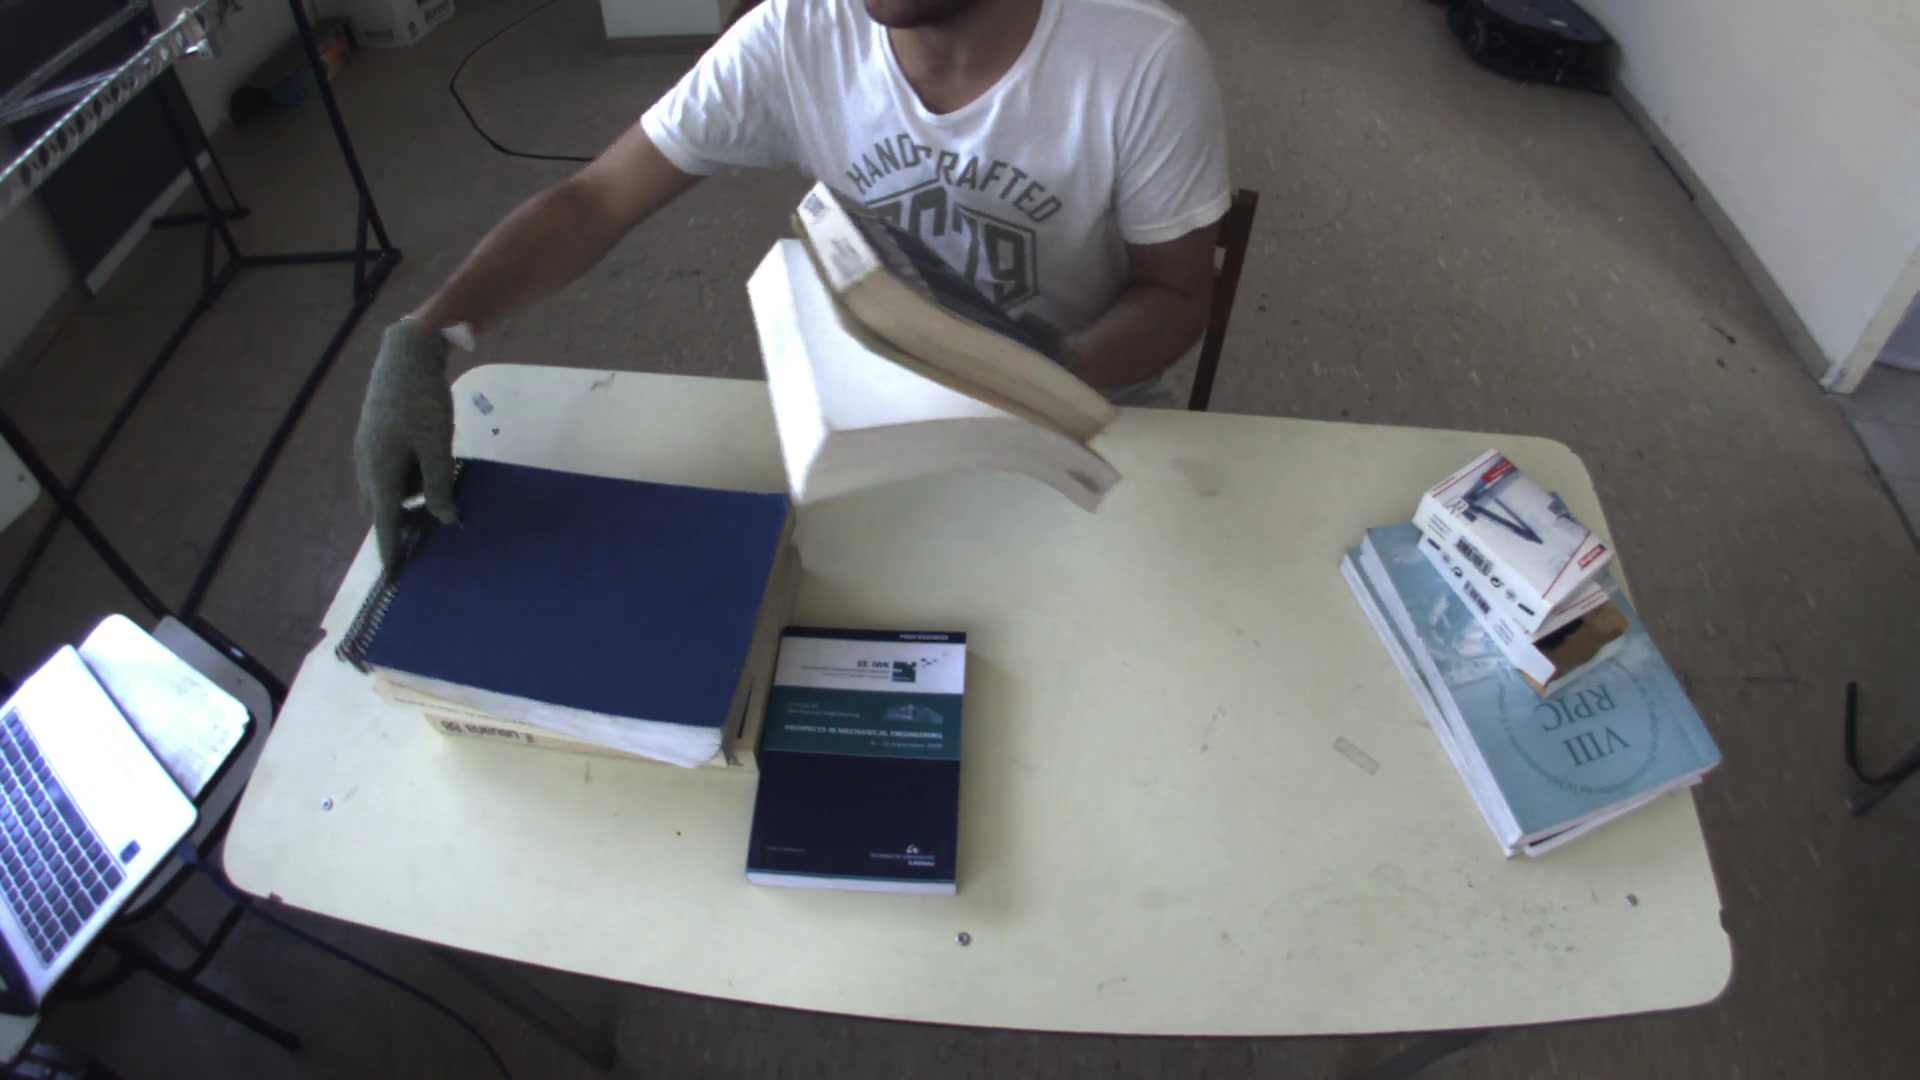hand: (342, 310, 468, 571)
